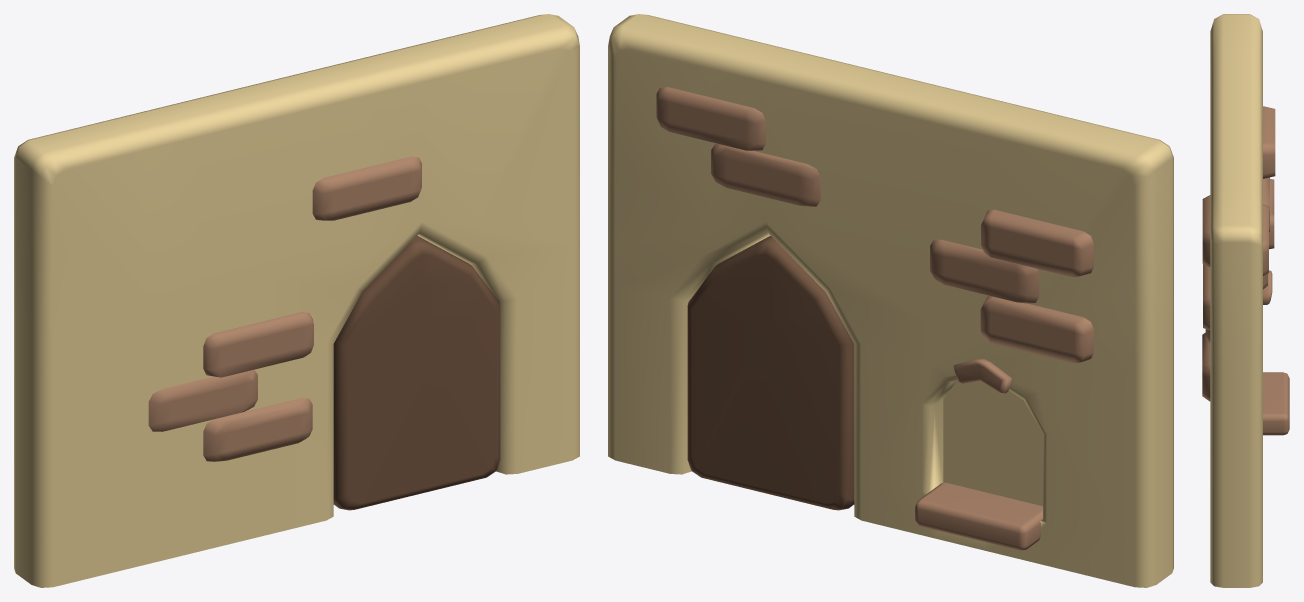
The model's file is PR_FinishLine_01.fbx.
The picture shows the model from 3 angles, left to right: view 1: azimuth 30°, elevation 25°; view 2: azimuth 150°, elevation 25°; view 3: azimuth 270°, elevation 25°; orthographic projection. The views are drawn at different scales.
Visible parts, largest first — view 1: pCube6, pCube2, pCube7; view 2: pCube6, pCube2, pCube7; view 3: pCube6, pCube7.
Part boxes in pixels (x1,y1,x2,y2): pCube6: [14, 14, 579, 587]; pCube2: [333, 235, 500, 510]; pCube7: [148, 156, 421, 461]; pCube6: [608, 14, 1173, 587]; pCube2: [687, 235, 854, 510]; pCube7: [656, 87, 1093, 550]; pCube6: [1210, 14, 1262, 587]; pCube7: [1202, 106, 1289, 435].
Size of the model in its own units: 200 by 150 by 33.14.
